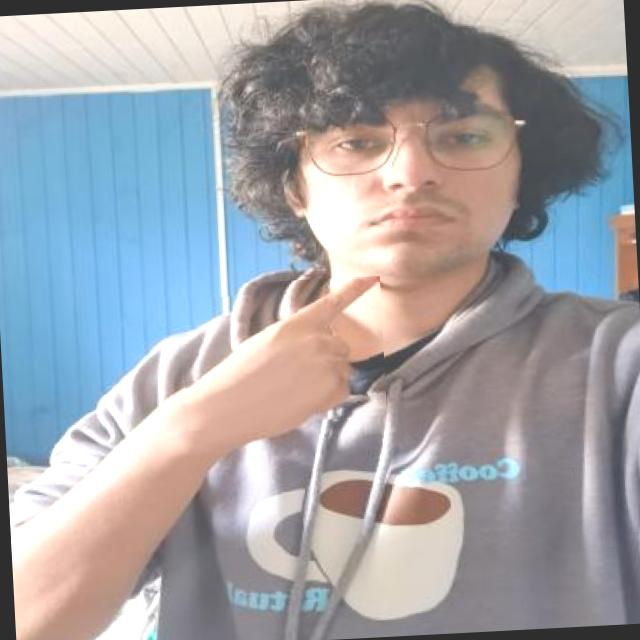Q: (176, 276, 387, 431)
